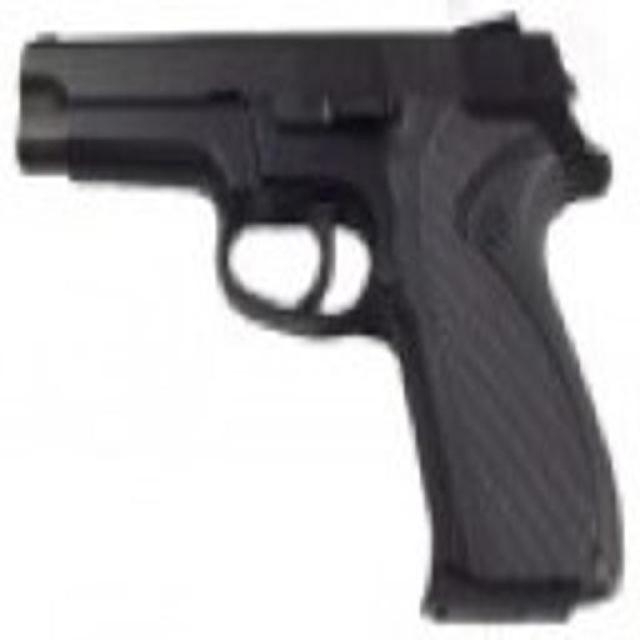pistol: (15, 21, 624, 640)
